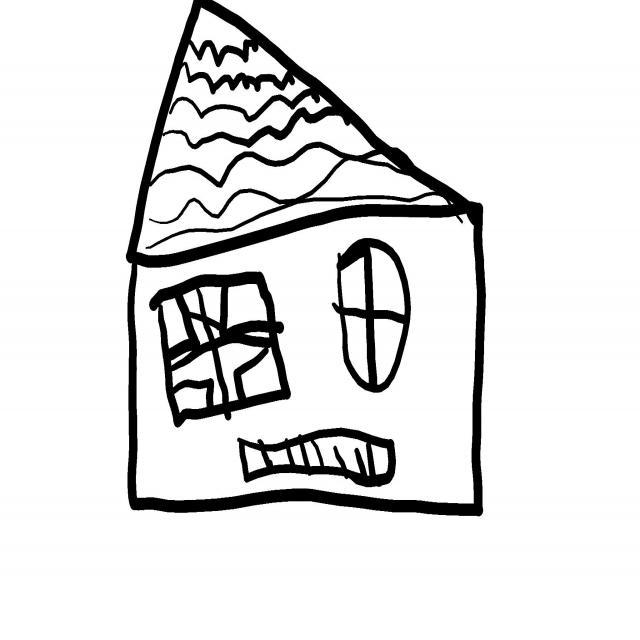house: (127, 0, 486, 516)
roof: (123, 0, 488, 268)
wall: (131, 209, 479, 514)
window: (152, 266, 296, 426), (336, 236, 416, 392), (234, 428, 393, 487)
